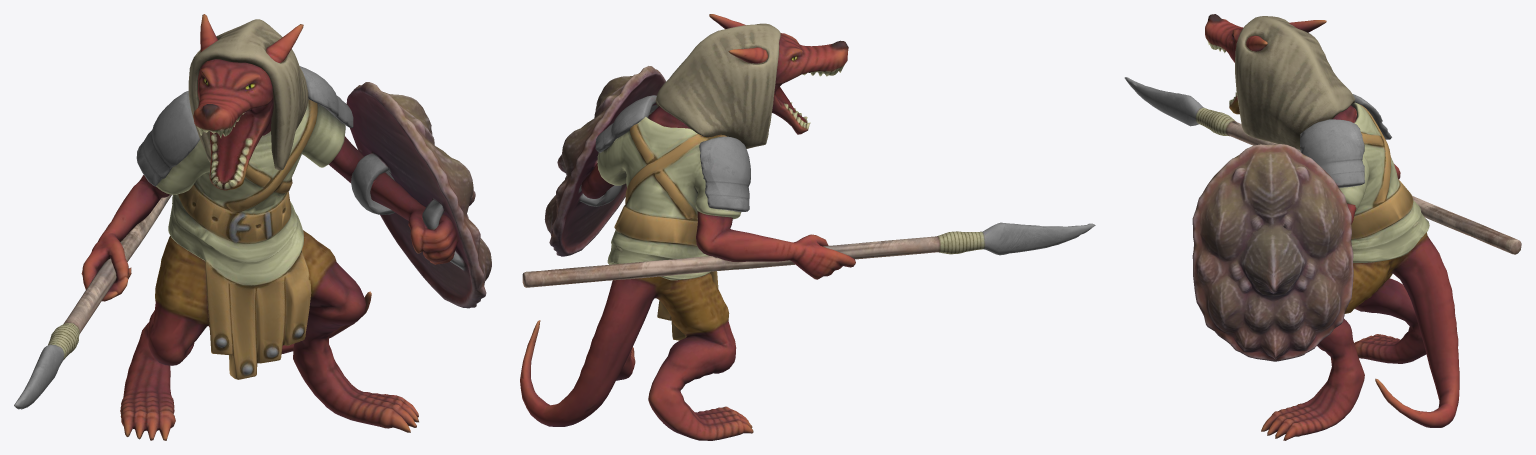
Rendered from MZ4250 - Kobold Dragon Shield.glb.
3 views of the same model, side by side, from view 1: azimuth 30°, elevation 25°; view 2: azimuth 150°, elevation 25°; view 3: azimuth 270°, elevation 25° (orthographic). The views are drawn at different scales.
Visible parts, largest first — view 1: ORGANIC BASE SPHERE.005; view 2: ORGANIC BASE SPHERE.005; view 3: ORGANIC BASE SPHERE.005.
Part boxes in pixels (x1,y1,x2,y2): ORGANIC BASE SPHERE.005: (14,14,491,440); ORGANIC BASE SPHERE.005: (520,14,1095,440); ORGANIC BASE SPHERE.005: (1124,14,1521,440).
Size of the model in its own units: 1.96 by 1.47 by 1.51.
Materials: 5 (5 with a texture image).
